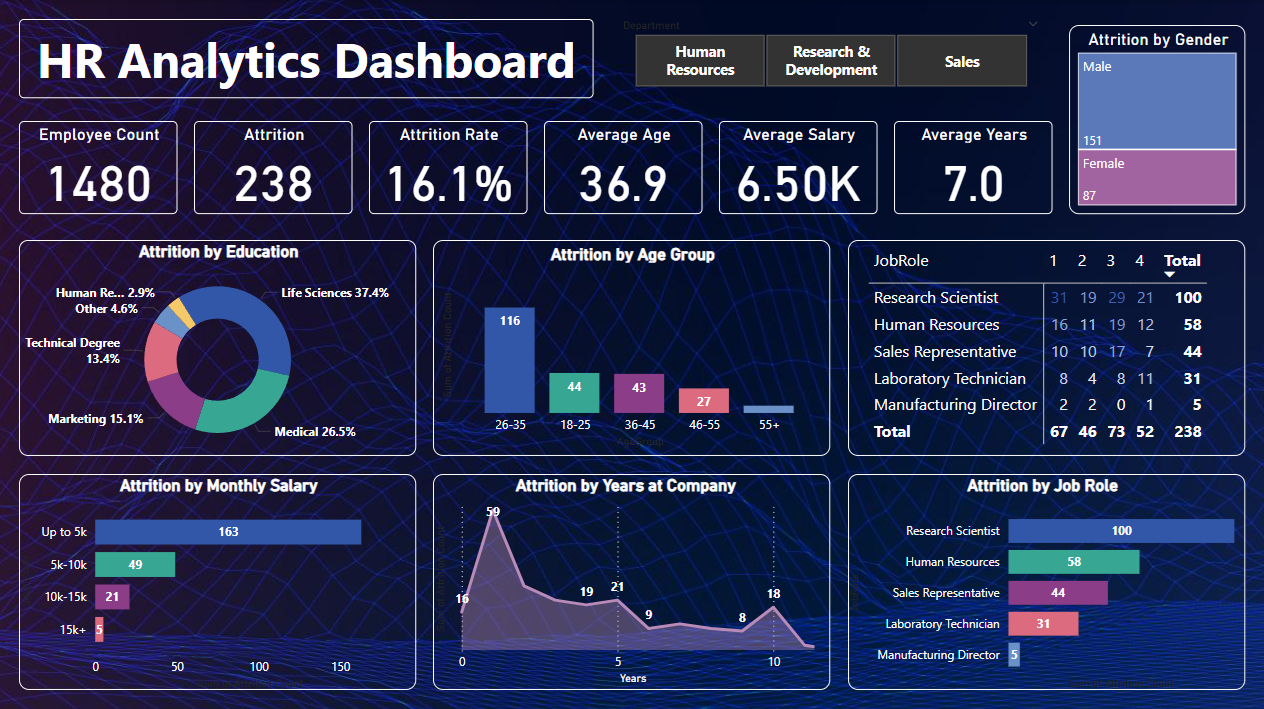

What the dashboard file says about the page in this screenshot:
{"tool":"powerbi","page":{"name":"Page 1","canvas":[1280,720],"ordinal":0},"visuals":[{"type":"card","title":"Employee Count","fields":{"Values":["Sum(HR_Data.EmployeeCount)"]},"box":[21,122,160,94.4],"z":0},{"type":"card","title":"Attrition","fields":{"Values":["Sum(HR_Data.Attrition Count)"]},"box":[197.8,122,160,94.4],"z":1000},{"type":"card","title":"Attrition Rate","fields":{"Values":["HR_Data.Attrition Rate"]},"box":[374.6,122,160,94.4],"z":2000},{"type":"card","title":"Average Age","fields":{"Values":["Avg(HR_Data.Age)"]},"box":[551.3,122,160,94.4],"z":3000},{"type":"card","title":"Average Salary","fields":{"Values":["Avg(HR_Data.MonthlyIncome)"]},"box":[728.1,122,160,94.4],"z":4000},{"type":"card","title":"Average Years","fields":{"Values":["Avg(HR_Data.YearsAtCompany)"]},"box":[904.9,122,160,94.4],"z":5000},{"type":"textbox","box":[21,19.7,579.7,80],"z":6000},{"type":"slicer","title":"Departments","fields":{"Values":["Departments.Department"]},"box":[617.7,19.7,444.6,80],"z":7000},{"type":"treemap","title":"Attrition by Gender","fields":{"Group":["HR_Data.Gender"],"Values":["Sum(HR_Data.Attrition Count)"]},"box":[1080.7,24.9,178.4,191.5],"z":8000},{"type":"donutChart","title":"Attrition by Education","fields":{"Category":["Education.Education"],"Y":["Sum(HR_Data.Attrition Count)"]},"box":[21,242.6,401.3,217.7],"z":9000},{"type":"barChart","title":"Attrition by Monthly Salary","fields":{"Category":["HR_Data.SalarySlab"],"Y":["Sum(HR_Data.Attrition Count)"],"Series":["HR_Data.SalarySlab"]},"box":[21,478.7,401.3,217.7],"z":10000},{"type":"barChart","title":"Attrition by Job Role","fields":{"Y":["Sum(HR_Data.Attrition Count)"],"Category":["Jobs.JobRole"],"Series":["Jobs.JobRole"]},"box":[857.7,478.7,401,217.7],"z":11000},{"type":"pivotTable","fields":{"Values":["Sum(HR_Data.Attrition Count)"],"Rows":["Jobs.JobRole"],"Columns":["HR_Data.JobSatisfaction"]},"box":[857.7,242.6,401.3,217.7],"z":12000},{"type":"areaChart","title":"Attrition by Years at Company","fields":{"Y":["Sum(HR_Data.Attrition Count)"],"Category":["HR_Data.YearsAtCompany"]},"box":[439.3,478.7,401.3,217.7],"z":13000},{"type":"columnChart","title":"Attrition by Age Group","fields":{"Category":["HR_Data.AgeGroup"],"Y":["Sum(HR_Data.Attrition Count)"],"Series":["HR_Data.AgeGroup"]},"box":[439.3,242.6,401.3,217.7],"z":14000}]}

Visuals, with their boxes in screenshot pixels (x1, y1, x2, y2), scaled from the page's 1280x720 canvas onto the 1264x709 screenshot:
"Employee Count" card: detection(21, 120, 179, 213)
"Attrition" card: detection(195, 120, 353, 213)
"Attrition Rate" card: detection(370, 120, 528, 213)
"Average Age" card: detection(544, 120, 702, 213)
"Average Salary" card: detection(719, 120, 877, 213)
"Average Years" card: detection(894, 120, 1052, 213)
textbox: detection(21, 19, 593, 98)
"Departments" slicer: detection(610, 19, 1049, 98)
"Attrition by Gender" treemap: detection(1067, 25, 1243, 213)
"Attrition by Education" donutChart: detection(21, 239, 417, 453)
"Attrition by Monthly Salary" barChart: detection(21, 471, 417, 686)
"Attrition by Job Role" barChart: detection(847, 471, 1243, 686)
pivotTable - Sum(HR_Data.Attrition Count) x Jobs.JobRole: detection(847, 239, 1243, 453)
"Attrition by Years at Company" areaChart: detection(434, 471, 830, 686)
"Attrition by Age Group" columnChart: detection(434, 239, 830, 453)
